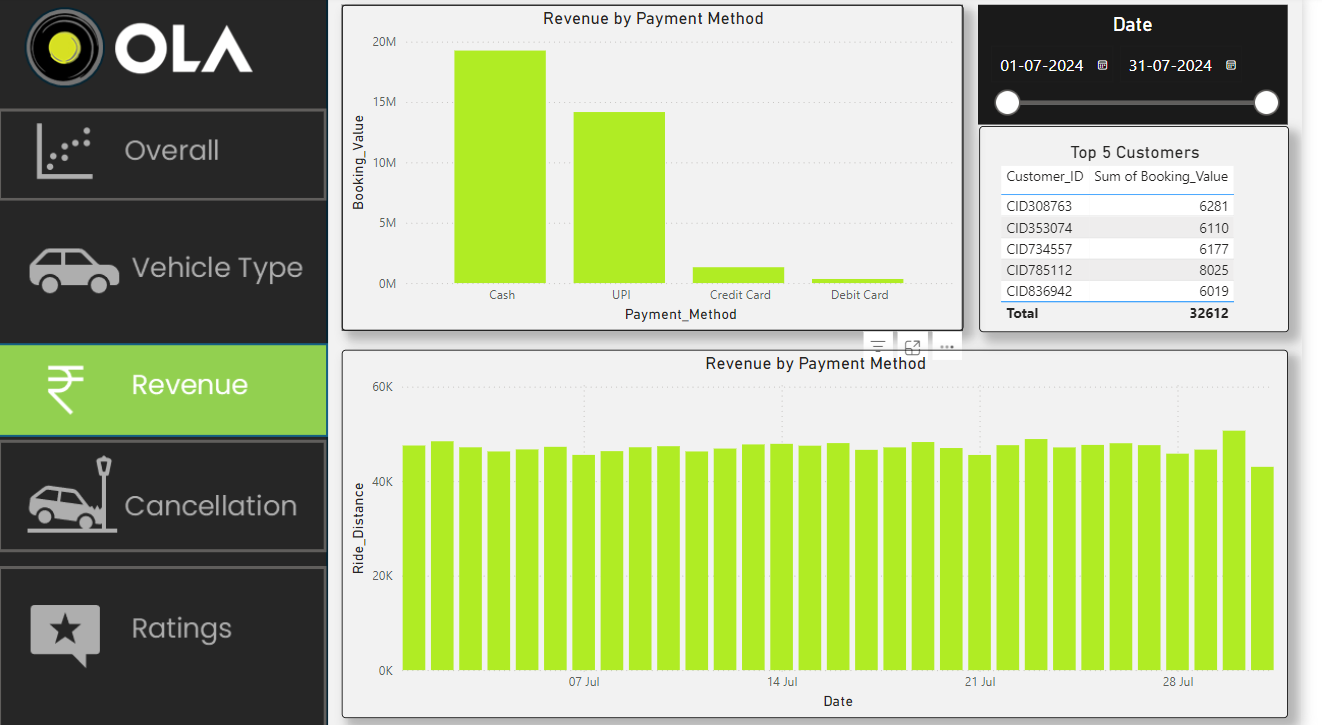

What the dashboard file says about the page in this screenshot:
{"tool":"powerbi","page":{"name":"Revenue","canvas":[1280,720],"ordinal":2},"visuals":[{"type":"actionButton","box":[0,213.5,322.7,115.3],"z":0},{"type":"actionButton","box":[0,435.6,322.7,110.4],"z":1000},{"type":"actionButton","box":[0,559.3,322.7,160.7],"z":2000},{"type":"actionButton","box":[0,110.4,322.7,90.8],"z":3000},{"type":"columnChart","title":"Revenue by Payment Method","fields":{"Y":["Sum(July.Booking_Value)"],"Category":["July.Payment_Method"]},"box":[337.5,8.8,610,320],"z":4000},{"type":"columnChart","title":"Revenue by Payment Method","fields":{"Y":["Sum(July.Ride_Distance)"],"Category":["July.Date"]},"box":[337.5,347.5,928.8,361.2],"z":5000},{"type":"slicer","title":"Date","fields":{"Values":["July.Date"]},"box":[962.5,8.8,303.8,117.5],"z":5001},{"type":"tableEx","title":"Top 5 Customers","fields":{"Values":["July.Customer_ID","Sum(July.Booking_Value)"]},"box":[963,127,304,202],"z":5002}]}

Visuals, with their boxes in screenshot pixels (x1, y1, x2, y2):
actionButton: detection(0, 210, 312, 329)
actionButton: detection(0, 439, 312, 553)
actionButton: detection(0, 567, 312, 724)
actionButton: detection(0, 104, 312, 197)
"Revenue by Payment Method" columnChart: detection(327, 0, 957, 329)
"Revenue by Payment Method" columnChart: detection(327, 348, 1286, 721)
"Date" slicer: detection(972, 0, 1286, 120)
"Top 5 Customers" tableEx: detection(973, 121, 1286, 329)
